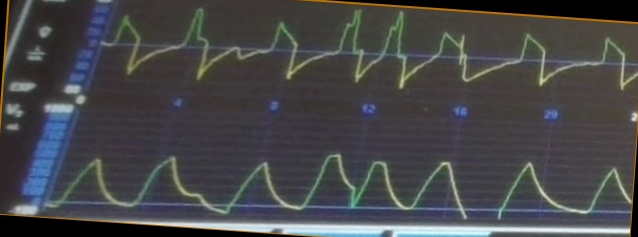Double_Triggering Flow: (113, 8, 485, 96)
Double_Triggering Volume: (111, 134, 540, 219)
